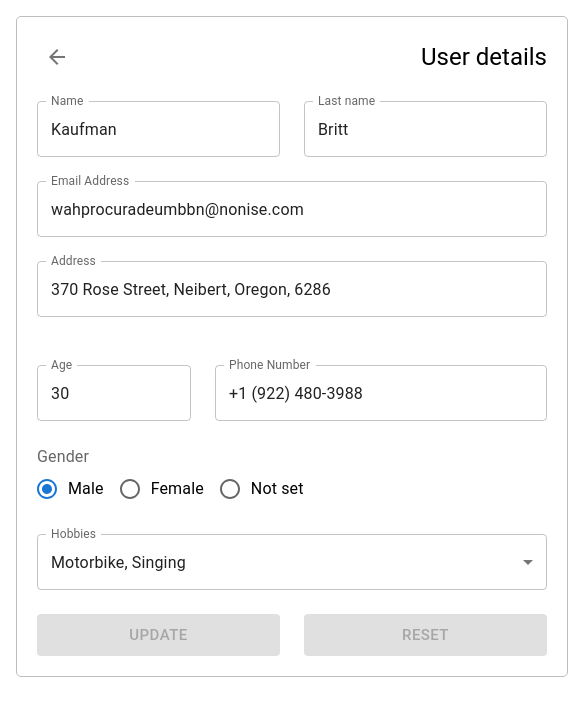
it: <UserForm /> › when API call returns complete data › should reset values when click on reset button
Replace the text in the field named "name" with "@123" at (158, 129), box [37,101,280,157]
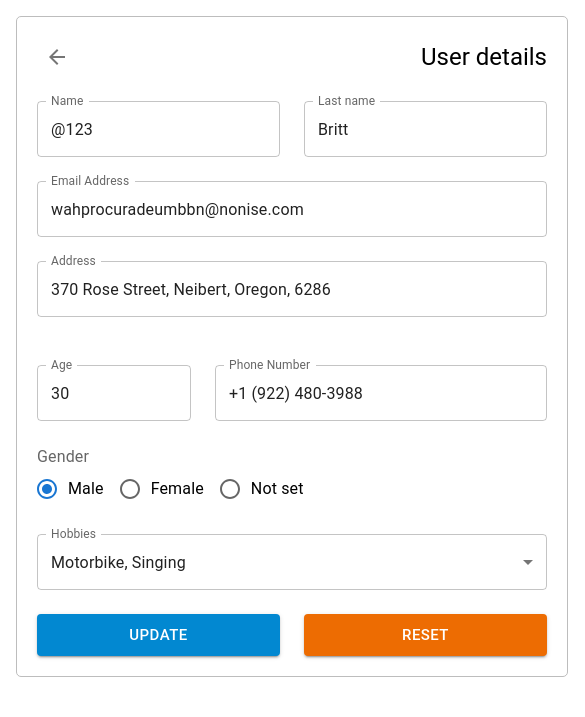
Click the button with test id "ResetUserBtn" at (426, 635), box [304,614,547,656]
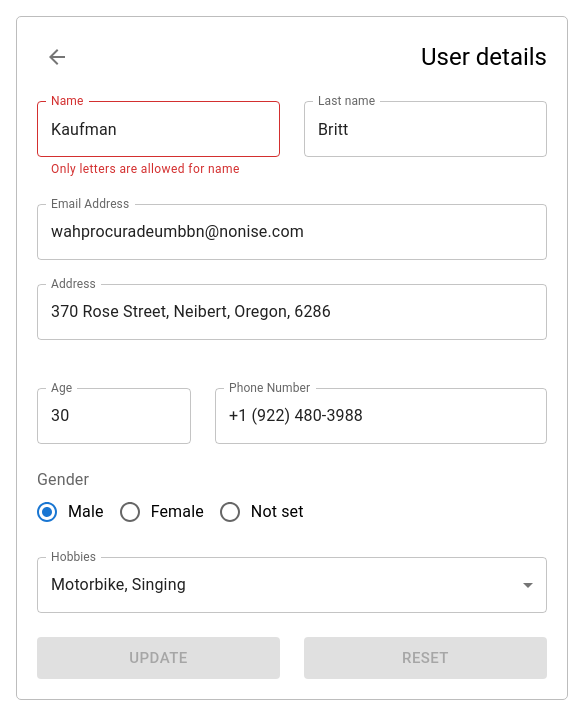
Expected: the field named "name" holds "Kaufman", [37,101,280,157]
